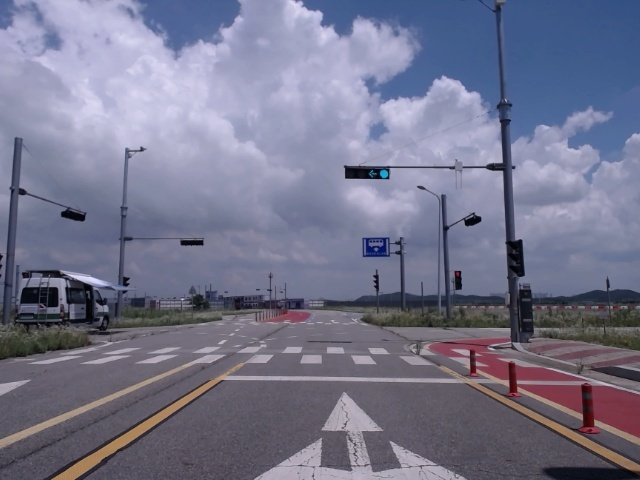all_green_4: (345, 165, 395, 182)
